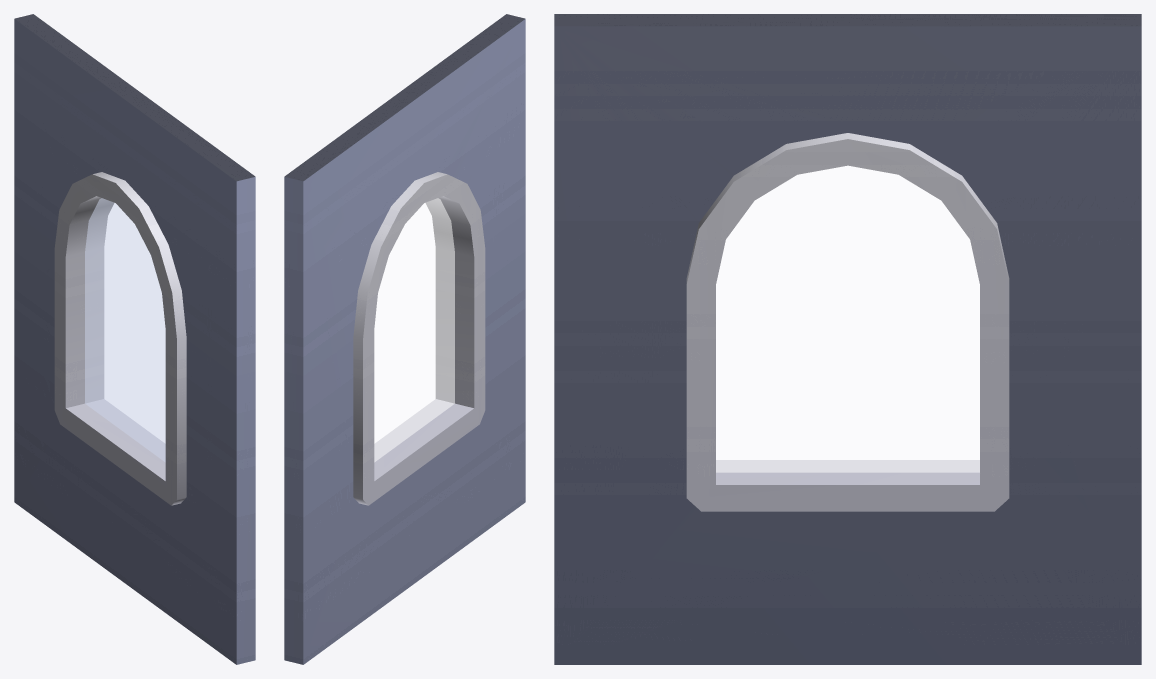
Rendered from wall-window-round.glb.
The picture shows the model from 3 angles, left to right: view 1: azimuth 30°, elevation 25°; view 2: azimuth 150°, elevation 25°; view 3: azimuth 270°, elevation 25°; orthographic projection. The views are drawn at different scales.
Parts seen in each view (by area): view 1: wall-window-round, (%ignore); view 2: wall-window-round, (%ignore); view 3: wall-window-round, (%ignore).
Part boxes in pixels (x1,y1,x2,y2): wall-window-round: (14,14,255,664); (%ignore): (85,198,165,462); wall-window-round: (284,14,525,664); (%ignore): (374,198,454,462); wall-window-round: (554,14,1141,664); (%ignore): (716,165,979,472).
Size of the model in its own units: 0.2 by 2.4 by 2.
Materials: 2 (1 with a texture image).
